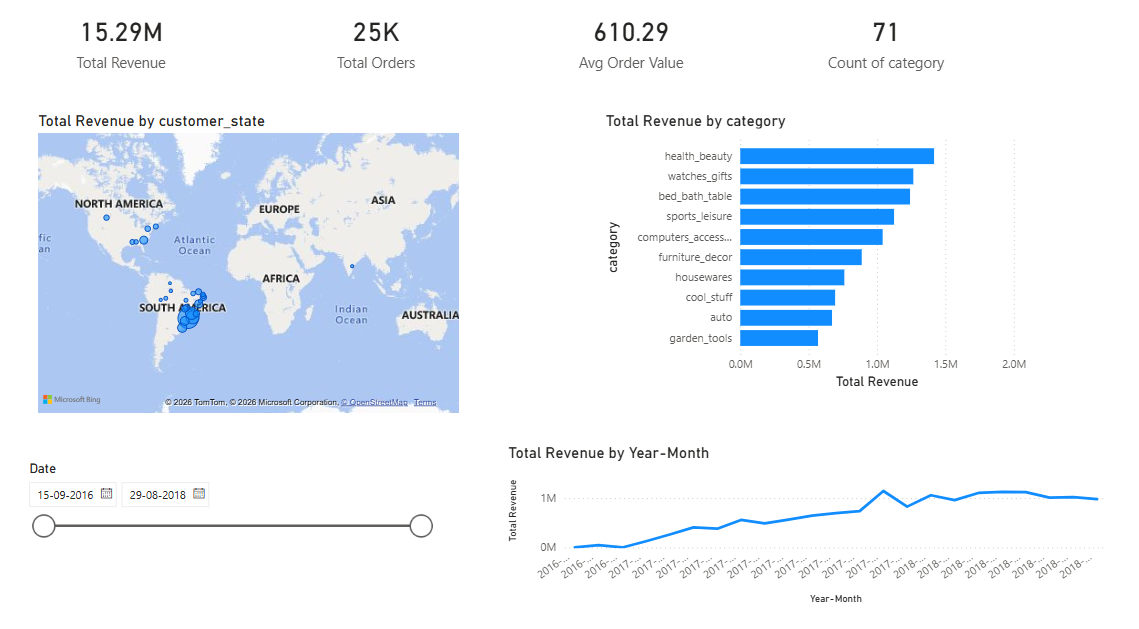

Layout of this report page (visuals, bound fields, positions):
{"tool":"powerbi","page":{"name":"Sales Overview","canvas":[1280,720],"ordinal":0},"visuals":[{"type":"card","fields":{"Values":["public vw_powerbi_master.Total Revenue"]},"box":[9.6,0,279.9,107],"z":0},{"type":"card","fields":{"Values":["public vw_powerbi_master.Total Orders"]},"box":[289.5,0,279.9,107],"z":1000},{"type":"card","fields":{"Values":["public vw_powerbi_master.Avg Order Value"]},"box":[569.5,0,279.9,107],"z":2000},{"type":"card","fields":{"Values":["Count(public vw_powerbi_master.category)"]},"box":[849.4,0,279.9,107],"z":3000},{"type":"map","fields":{"Category":["public vw_powerbi_master.customer_state"],"Size":["public vw_powerbi_master.Total Revenue"]},"box":[53.5,131.7,472,336.2],"z":4000},{"type":"clusteredBarChart","fields":{"Category":["public vw_powerbi_master.category"],"Y":["public vw_powerbi_master.Total Revenue"]},"box":[676.5,131.7,472,310.1],"z":5000},{"type":"lineChart","fields":{"Y":["public vw_powerbi_master.Total Revenue"],"Category":["Date Table.Year-Month"]},"box":[569.5,496.7,666.9,181.1],"z":6000},{"type":"slicer","fields":{"Values":["Date Table.Date"]},"box":[35.7,510.5,463.8,152.3],"z":7000}]}

Visuals, with their boxes in screenshot pixels (x1, y1, x2, y2), scaled from the page's 1280x720 canvas onto the 1139x629 screenshot:
card - public vw_powerbi_master.Total Revenue: Rect(9, 0, 258, 93)
card - public vw_powerbi_master.Total Orders: Rect(258, 0, 507, 93)
card - public vw_powerbi_master.Avg Order Value: Rect(507, 0, 756, 93)
card - Count(public vw_powerbi_master.category): Rect(756, 0, 1005, 93)
map - public vw_powerbi_master.customer_state x public vw_powerbi_master.Total Revenue: Rect(48, 115, 468, 409)
clusteredBarChart - public vw_powerbi_master.category x public vw_powerbi_master.Total Revenue: Rect(602, 115, 1022, 386)
lineChart - public vw_powerbi_master.Total Revenue x Date Table.Year-Month: Rect(507, 434, 1100, 592)
slicer - Date Table.Date: Rect(32, 446, 444, 579)
